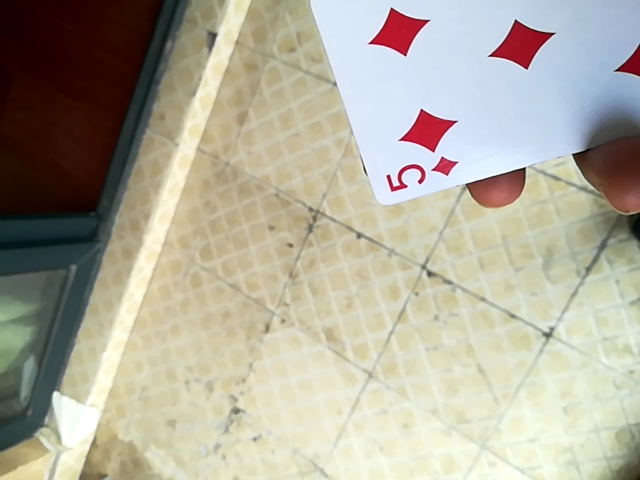fk 5: (299, 0, 639, 207)
